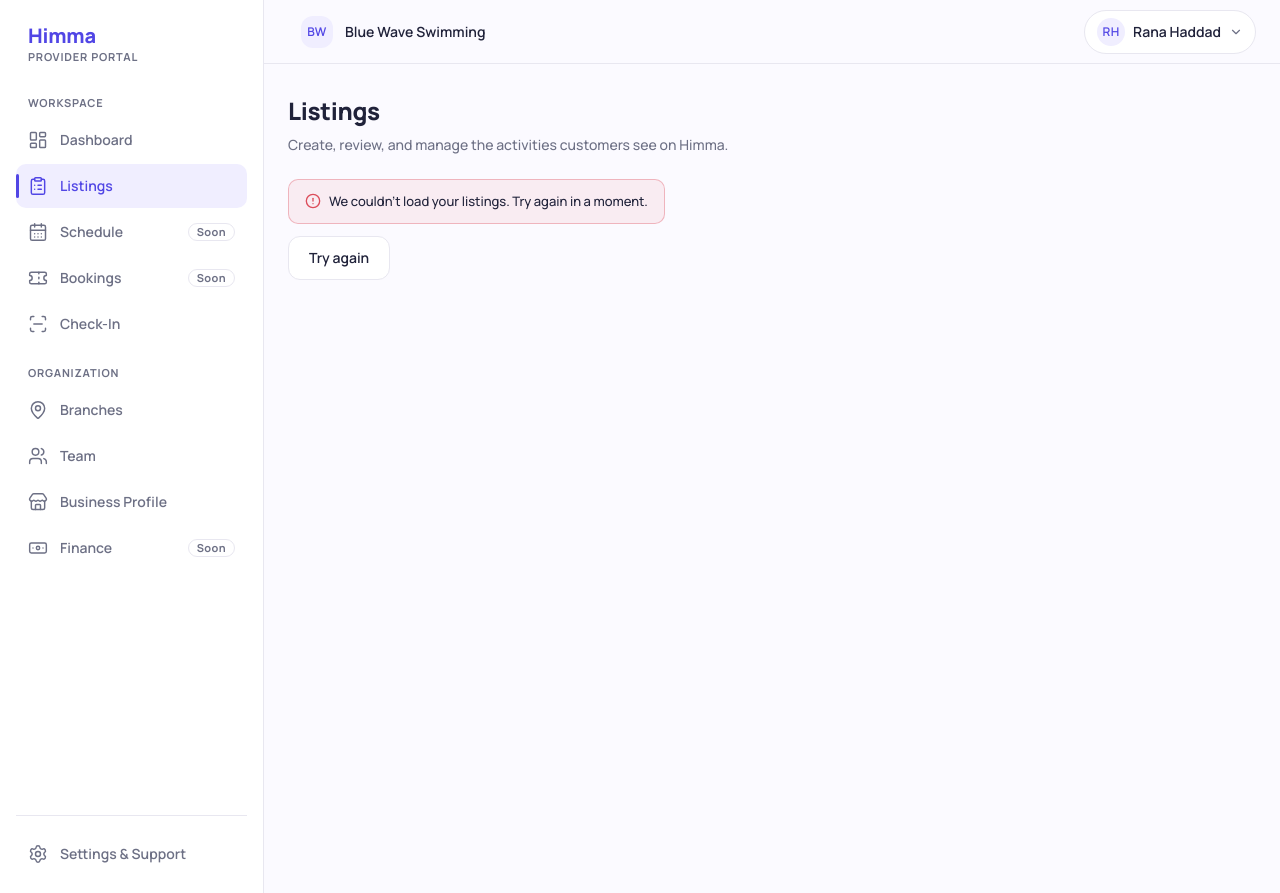
Test case: listings index (W2-7) › a transient list failure renders a retryable error, and retry recovers
Expected: the text "We couldn’t load your listings. Try again in a moment." is shown, [329, 192, 648, 211]
Click the button "Try again" at (339, 258), box [288, 236, 390, 280]
(page scrolled)
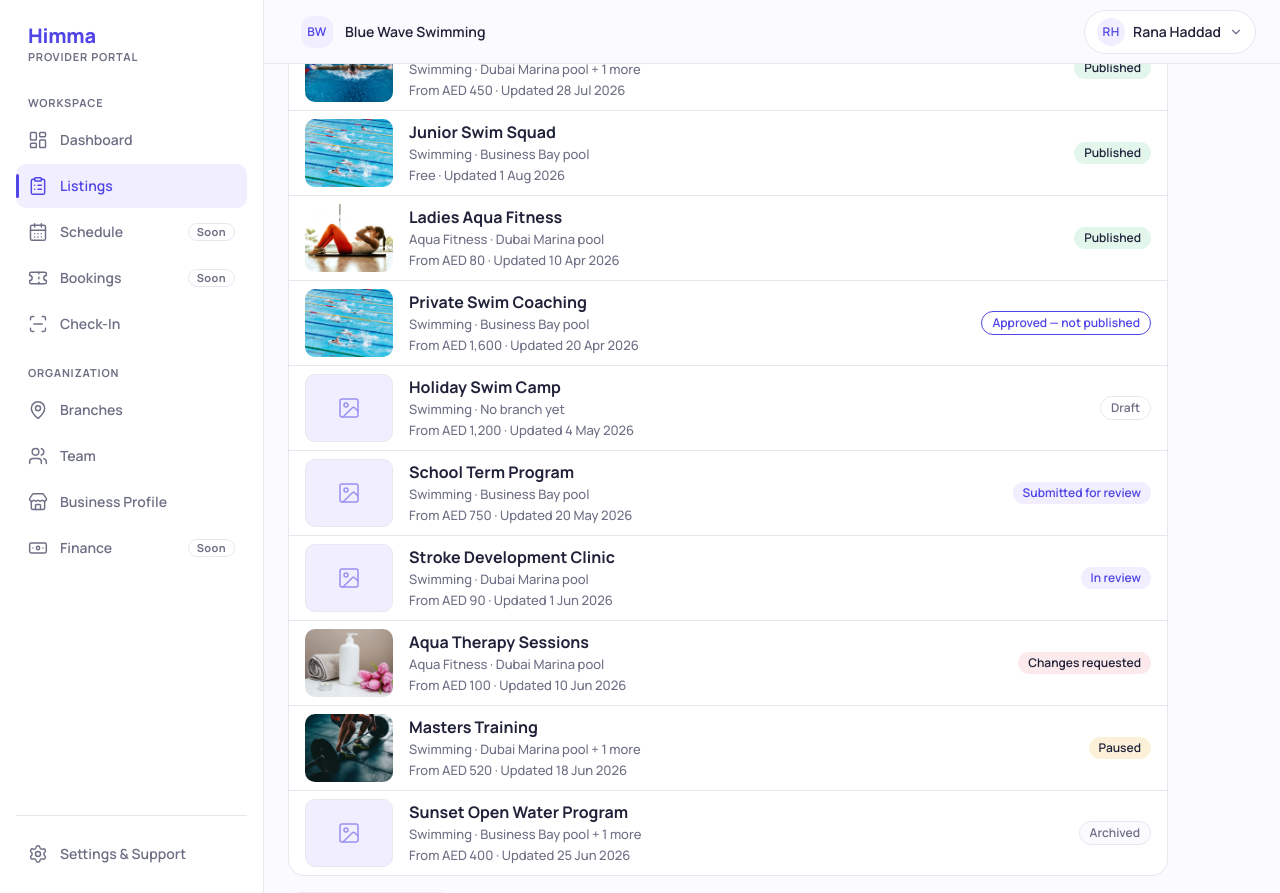
Now the list named "Listings" is shown
